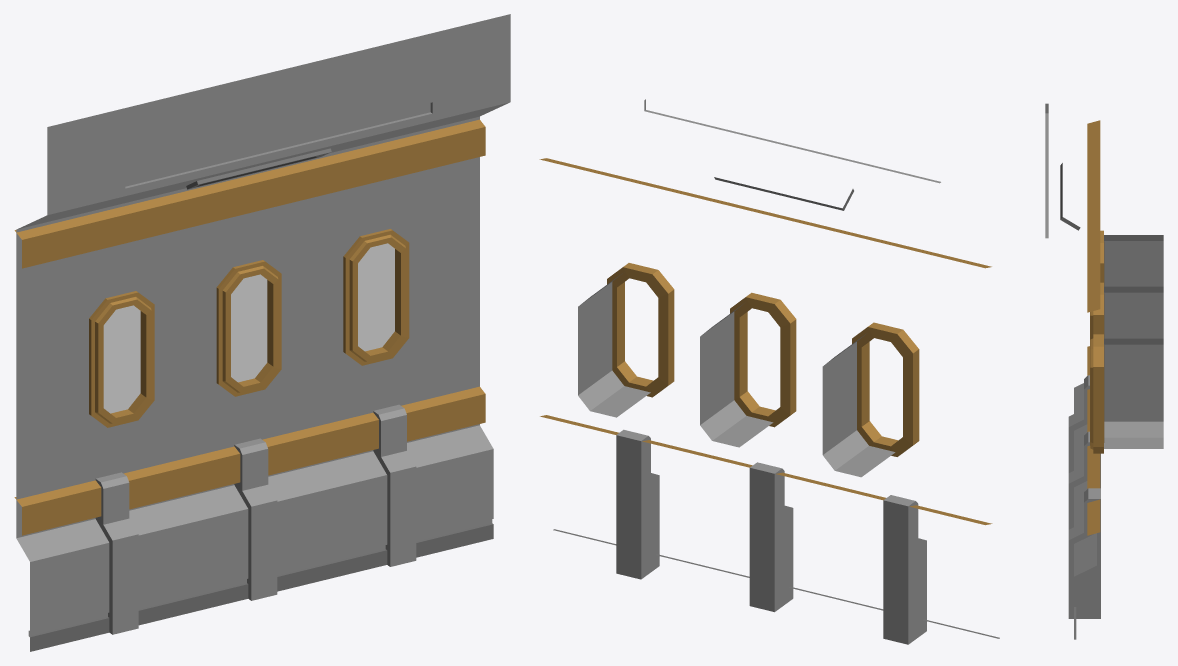
Rendered from quaternius-modular-sci-fi-three-windows-wall-side-a.glb.
The picture shows the model from 3 angles, left to right: view 1: azimuth 30°, elevation 25°; view 2: azimuth 150°, elevation 25°; view 3: azimuth 270°, elevation 25°; orthographic projection. The views are drawn at different scales.
Visible parts, largest first — view 1: ThreeWindows_Wall_SideA; view 2: ThreeWindows_Wall_SideA; view 3: ThreeWindows_Wall_SideA.
Boxes of the visible parts, x1,y1,x2,y2 form: ThreeWindows_Wall_SideA: (14, 14, 510, 651); ThreeWindows_Wall_SideA: (539, 99, 999, 644); ThreeWindows_Wall_SideA: (1045, 103, 1163, 639).
Size of the model in its own units: 4 by 4.43 by 1.06.
